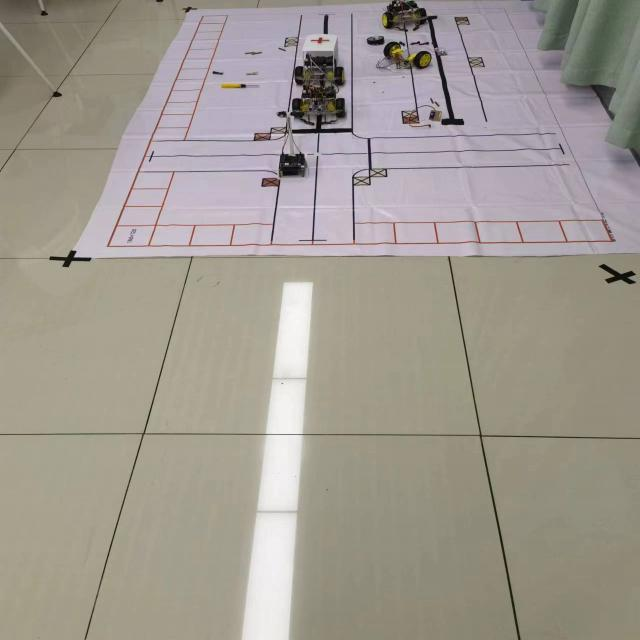RedCross: (309, 36, 331, 46)
